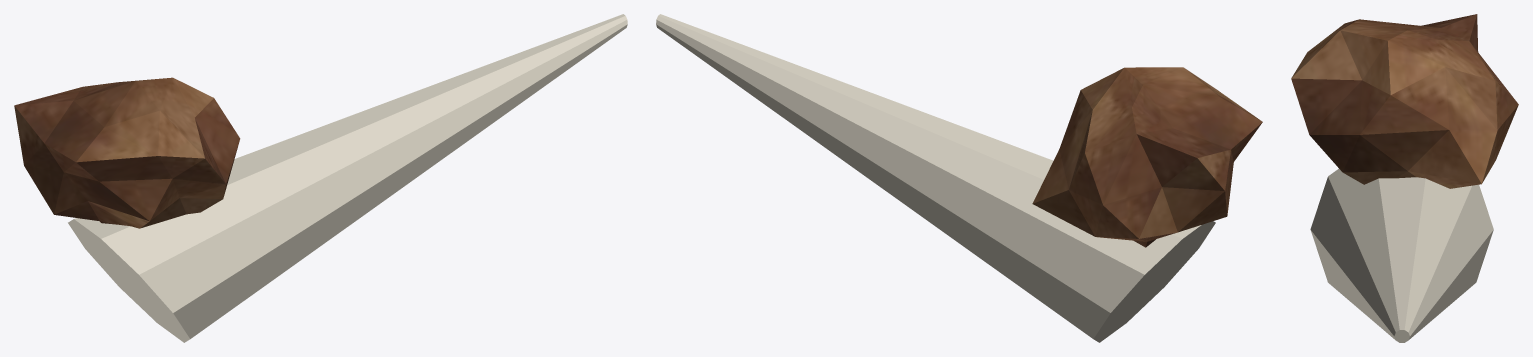
The model's file is bat_fang.glb.
3 renders of one model, left to right at view 1: azimuth 30°, elevation 25°; view 2: azimuth 150°, elevation 25°; view 3: azimuth 270°, elevation 25°, orthographic. The views are drawn at different scales.
Visible parts, largest first — view 1: model; view 2: model; view 3: model.
Part boxes in pixels (left/top/right/bottom): model: left=14, top=14, right=627, bottom=342; model: left=656, top=14, right=1262, bottom=342; model: left=1291, top=14, right=1518, bottom=342.
Bounding box in the file's own units: 0.2677 × 0.1147 × 0.0869.
Materials: 2 (1 with a texture image).
